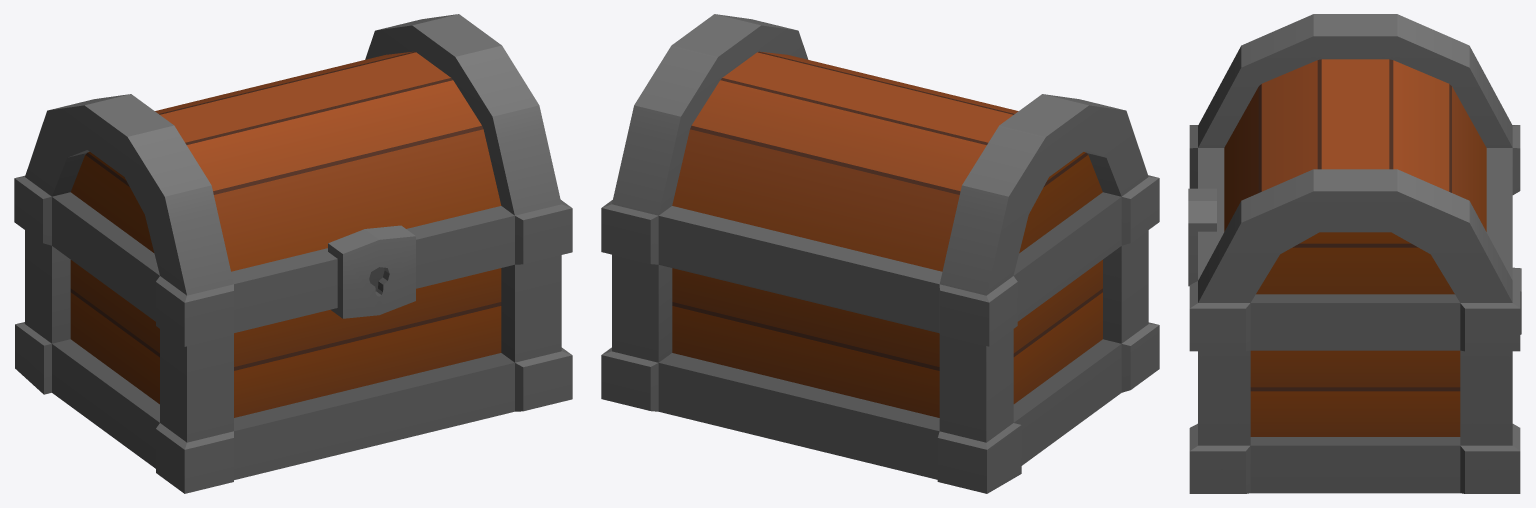
Rendered from ChestClosed.fbx.
3 renders of one model, left to right at view 1: azimuth 30°, elevation 25°; view 2: azimuth 150°, elevation 25°; view 3: azimuth 270°, elevation 25°, orthographic. The views are drawn at different scales.
Parts seen in each view (by area): view 1: ChestClosed; view 2: ChestClosed; view 3: ChestClosed.
Boxes of the visible parts, x1,y1,x2,y2 form: ChestClosed: [14, 14, 572, 493]; ChestClosed: [601, 14, 1159, 493]; ChestClosed: [1188, 14, 1521, 493].
Bounding box in the file's own units: 66.5 × 50.8 × 50.86.
